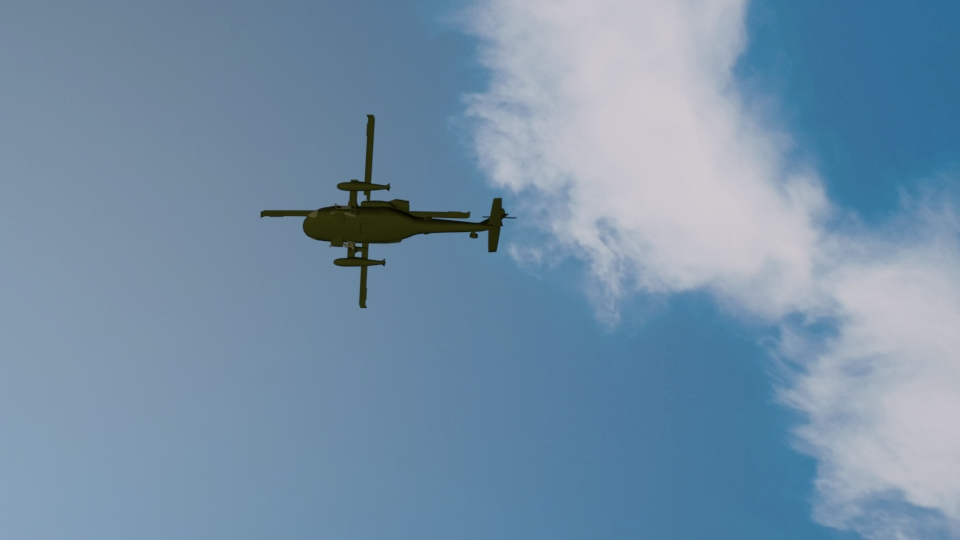heli: (256, 113, 519, 309)
